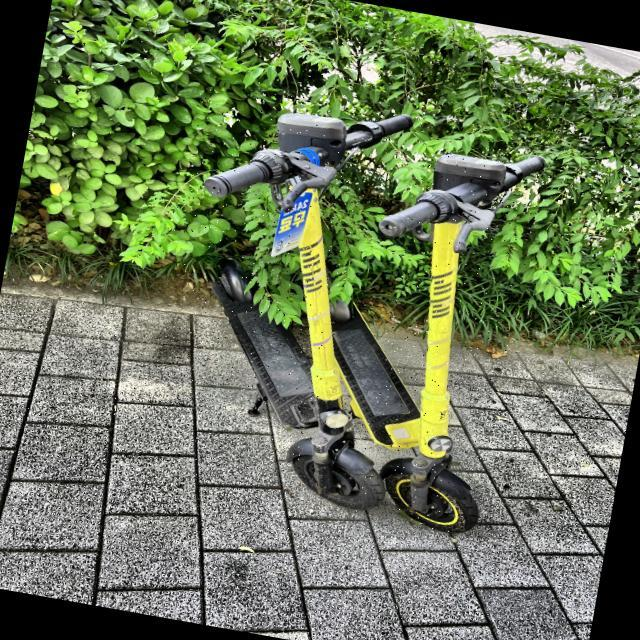bike: (201, 111, 547, 533)
